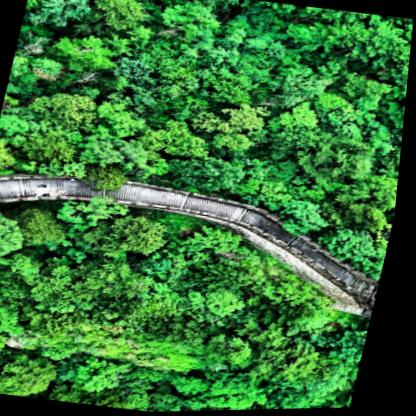tree-top: (34, 247, 141, 311), (300, 126, 388, 184), (326, 17, 414, 72), (186, 365, 281, 412), (165, 152, 259, 199), (258, 336, 339, 386), (0, 349, 76, 402), (79, 130, 166, 175), (199, 99, 272, 150), (57, 31, 129, 82), (154, 0, 232, 45), (105, 212, 178, 260), (81, 97, 155, 144), (52, 188, 132, 231), (279, 295, 348, 340), (79, 354, 146, 400), (10, 201, 75, 248), (322, 223, 387, 269), (213, 59, 269, 110), (317, 102, 386, 143), (275, 194, 335, 240), (180, 38, 246, 79), (18, 128, 82, 169), (330, 72, 395, 111), (151, 123, 219, 160), (79, 0, 152, 34), (27, 0, 104, 32), (183, 223, 251, 259), (269, 72, 330, 112), (142, 33, 198, 76), (206, 257, 272, 293), (204, 334, 267, 371), (160, 308, 221, 345), (343, 177, 402, 213), (82, 158, 140, 194), (192, 284, 253, 317), (32, 309, 85, 343), (0, 211, 30, 262), (350, 205, 400, 234), (274, 103, 321, 132), (277, 384, 326, 411), (39, 336, 85, 363), (24, 51, 66, 80)
